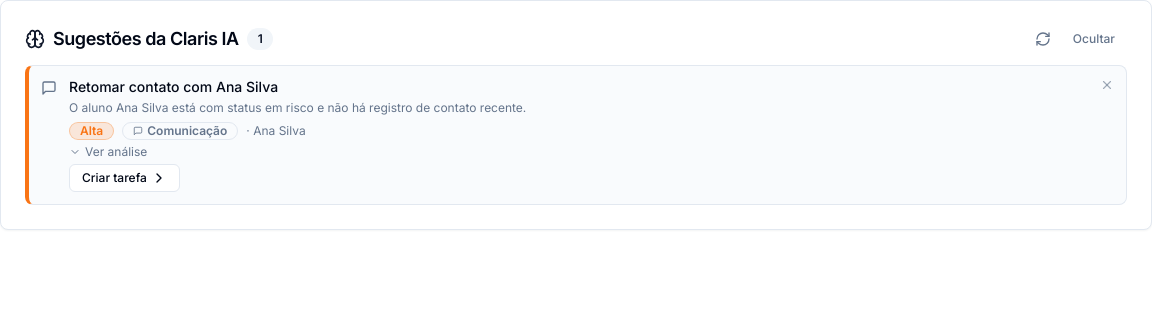
Test: ClarisSuggestions › shows expandable analysis section when reason is available
Note: Expand analysis
Click the button "Ver análise".
click(108, 152)  # box [69,144,147,160]
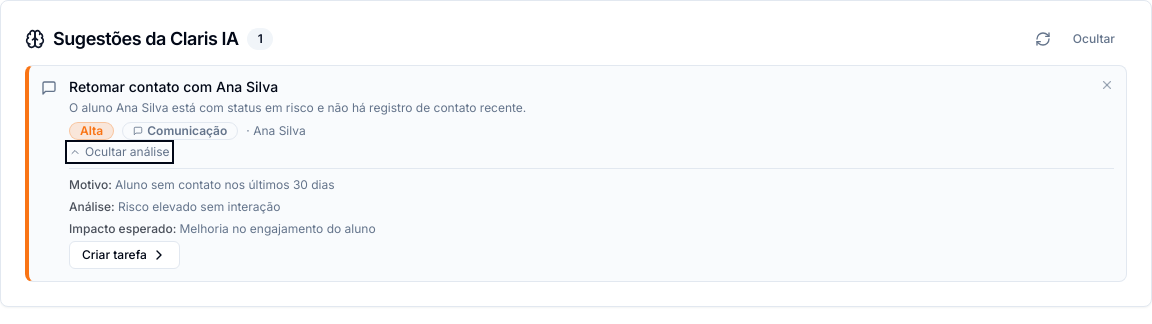
Result: the text "Motivo: Aluno sem contato nos últimos 30 dias" is shown at [69,176,335,192]
